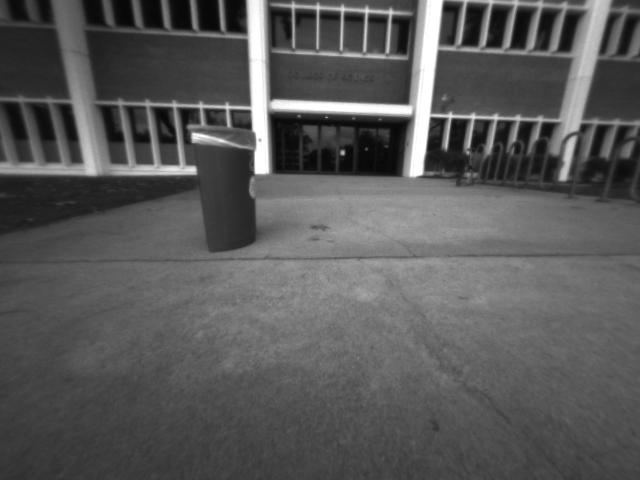trashcan_open: (183, 122, 262, 254)
